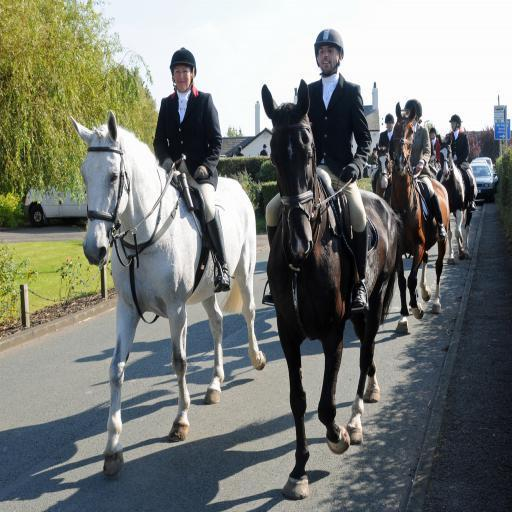horse: (261, 84, 478, 500), (70, 110, 266, 474)
